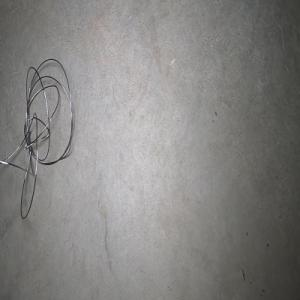Wire: (0, 58, 72, 219)
